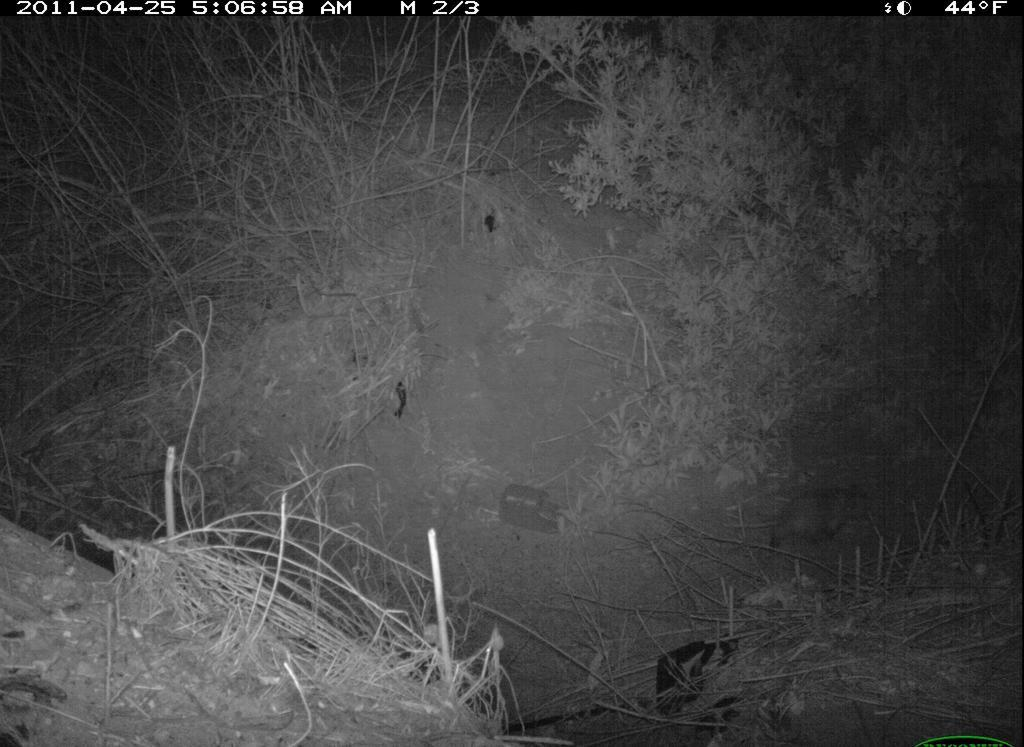opossum: (724, 479, 881, 557)
